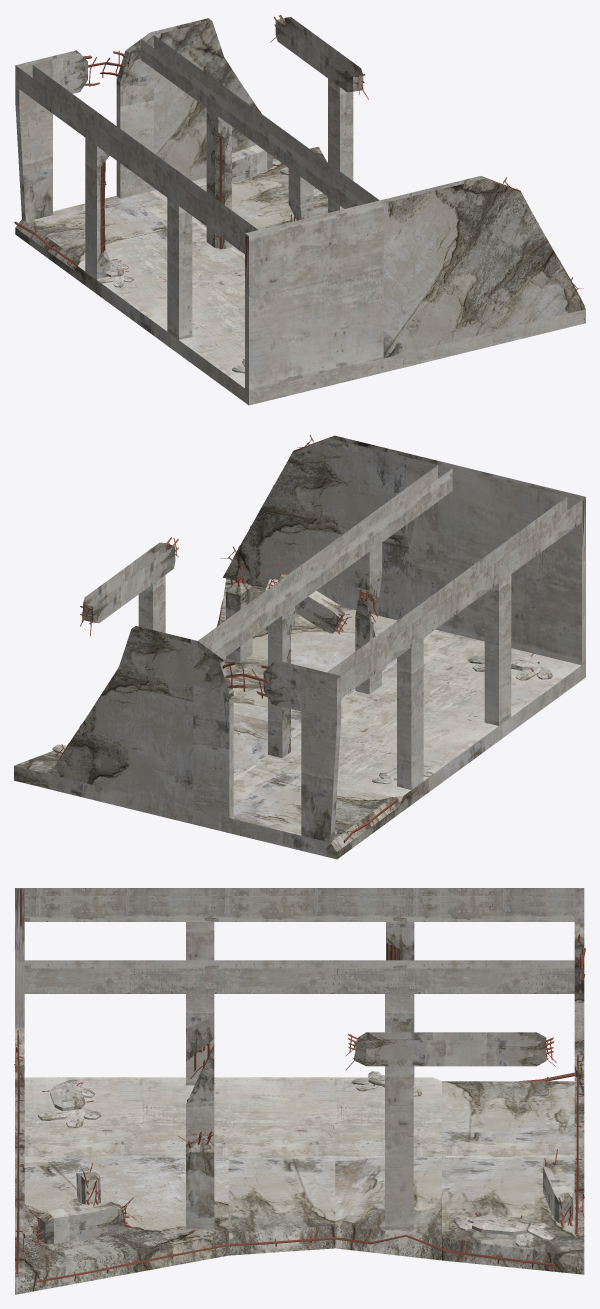
The model's file is vRRubbleBuilding.fbx.
3 renders of one model, top to bottom at view 1: azimuth 30°, elevation 25°; view 2: azimuth 150°, elevation 25°; view 3: azimuth 270°, elevation 25°, orthographic. The views are drawn at different scales.
Parts seen in each view (by area): view 1: Cube; view 2: Cube; view 3: Cube.
Part boxes in pixels (box(x1,y1,x2,y2)): Cube: box(14, 15, 585, 405); Cube: box(14, 435, 585, 859); Cube: box(14, 888, 585, 1294).
Size of the model in its own units: 5.1 by 2.42 by 6.03.
